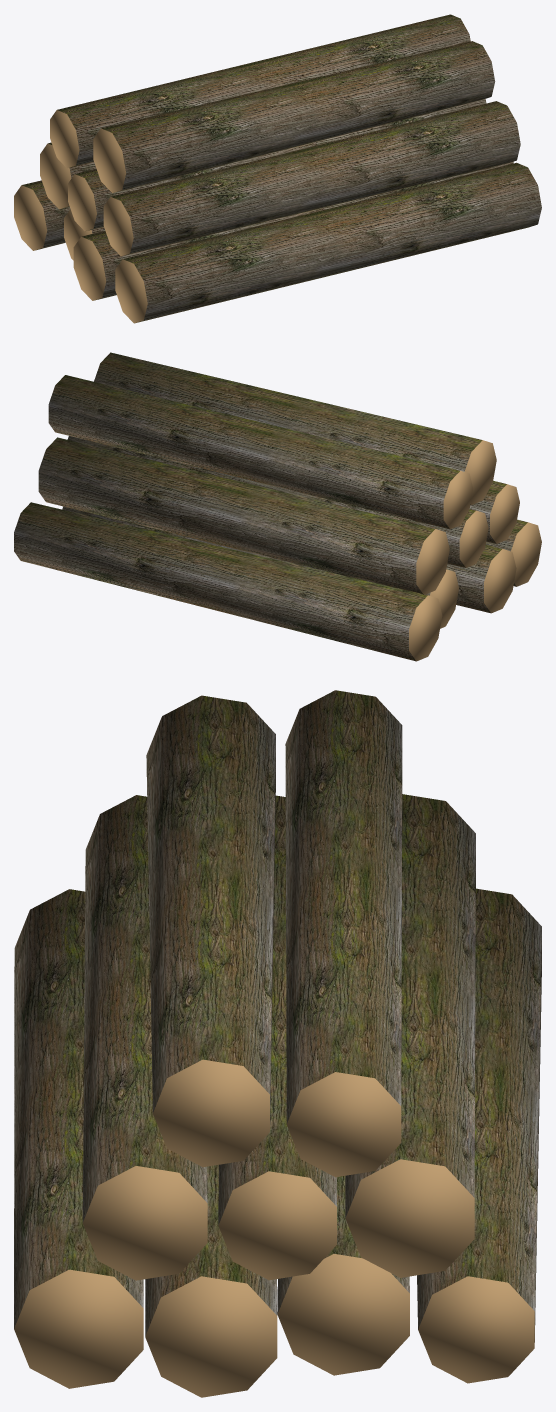
File: n-logs.glb
3 renders of one model, top to bottom at view 1: azimuth 30°, elevation 25°; view 2: azimuth 150°, elevation 25°; view 3: azimuth 270°, elevation 25°, orthographic. The views are drawn at different scales.
Visible parts, largest first — view 1: logs; view 2: logs; view 3: logs.
Boxes of the visible parts, box(x1,y1,x2,y2) form: logs: box(14, 14, 541, 323); logs: box(14, 352, 541, 661); logs: box(14, 690, 541, 1397).
Bounding box in the file's own units: 2.43 × 0.9299 × 1.37.
2 materials, 1 textured.
